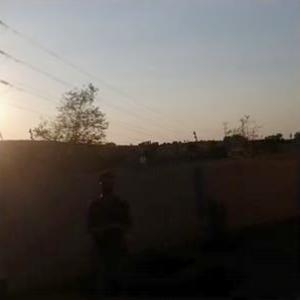follow: (83, 166, 139, 299)
